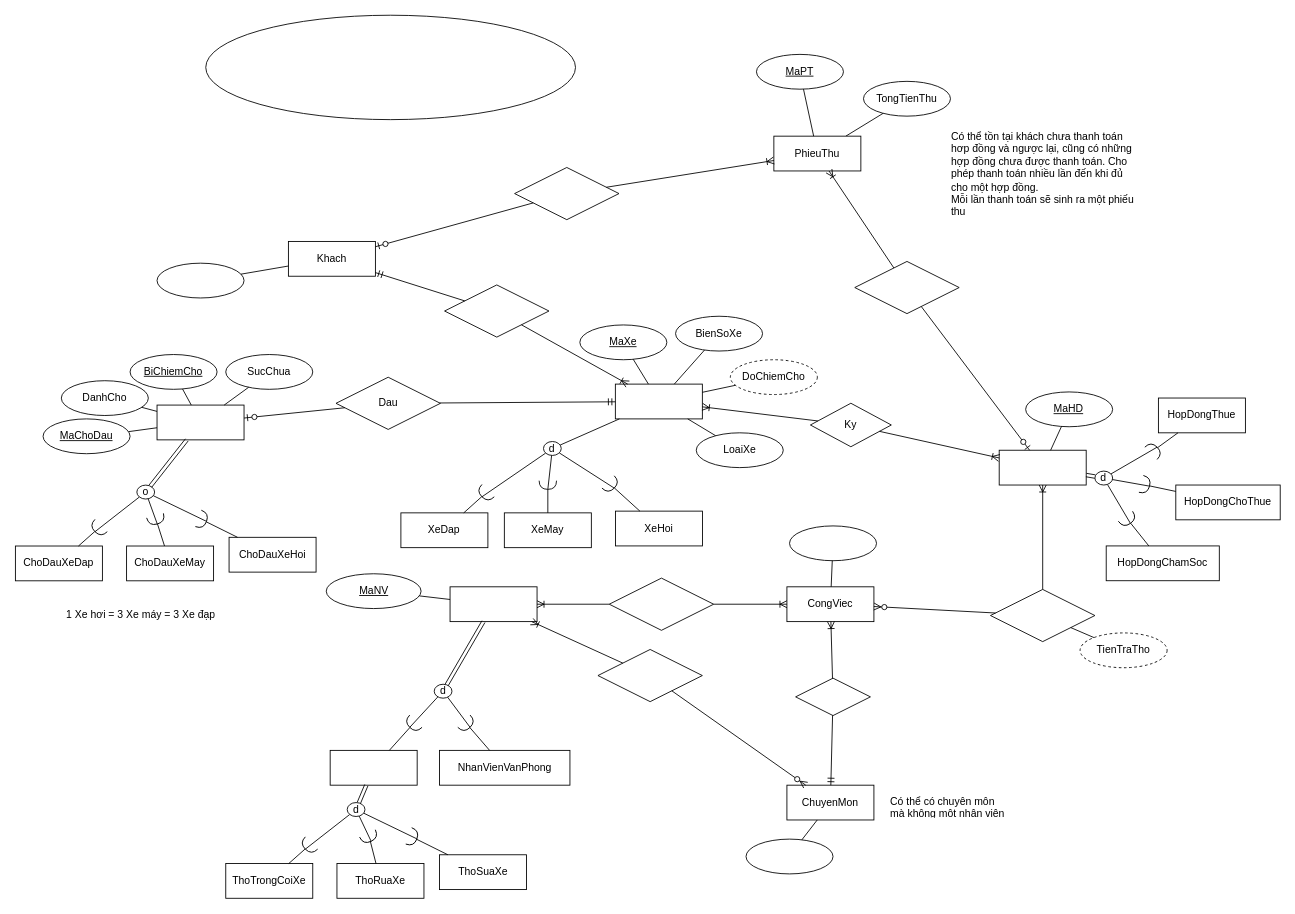
The diagram is 1295 pixels wide and 914 high, and some of its shapes have lost their labels. Here are the shapes that lost their labels. From the top down, the box of each, then its label:
(205, 14, 576, 120): CHỈ QUẢN LÝ TRONG THẾ GIỚI CỦA CÔNG TY QUẢN LÝ
(514, 167, 619, 220): NhanDuoc
(156, 262, 244, 298): MaKhach
(854, 261, 959, 314): SinhRa
(444, 284, 549, 337): SoHuu
(614, 383, 702, 419): Xe
(156, 404, 244, 440): ChoDauXe
(998, 449, 1086, 485): HopDong
(789, 525, 877, 561): MaCV
(449, 586, 537, 622): NhanVien
(608, 577, 714, 630): Lam
(990, 589, 1095, 642): ChiTietHopDong
(597, 649, 702, 702): Gioi
(795, 677, 870, 716): ThuocVe
(329, 750, 417, 785): Tho
(745, 838, 833, 874): MaCM
